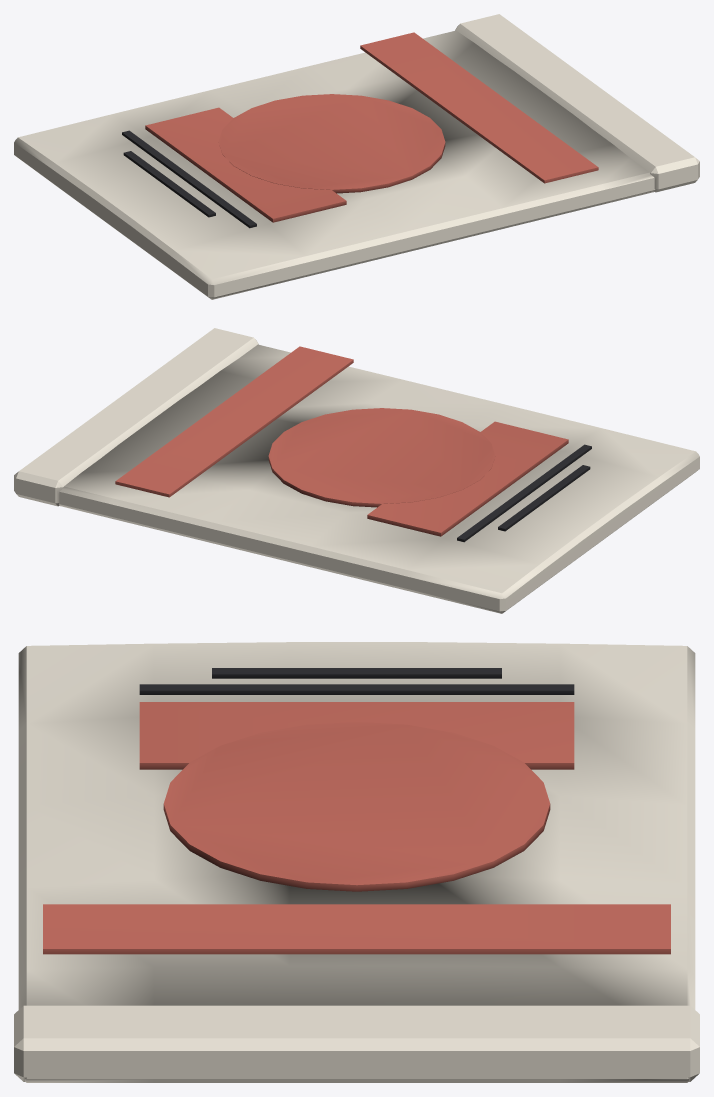
File: nd_seed_packet.glb
3 views of the same model, one above another, from view 1: azimuth 30°, elevation 25°; view 2: azimuth 150°, elevation 25°; view 3: azimuth 270°, elevation 25° (orthographic). The views are drawn at different scales.
Parts seen in each view (by area): view 1: PART; view 2: PART; view 3: PART.
Boxes of the visible parts, x1,y1,x2,y2 form: PART: [14, 14, 699, 299]; PART: [14, 328, 699, 613]; PART: [14, 642, 699, 1082].
Bounding box in the file's own units: 0.2 × 0.0133 × 0.142.
